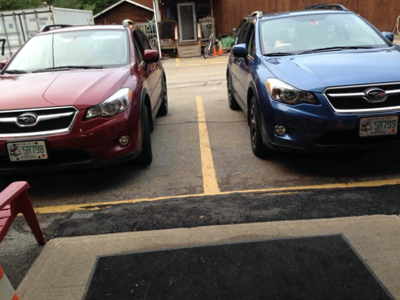licence: (6, 143, 48, 161)
